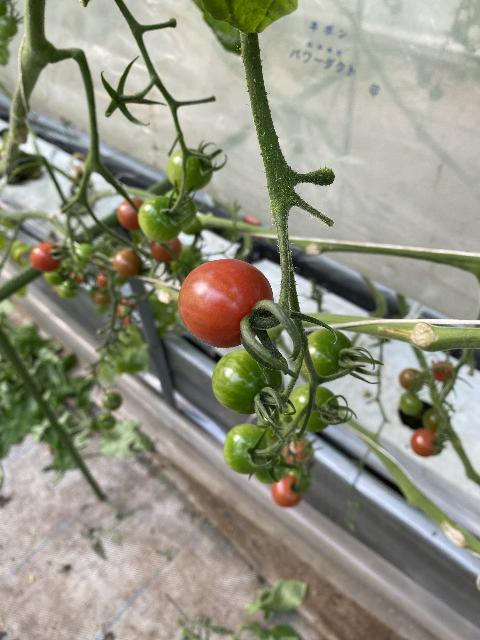l_fully_ripened: (178, 259, 273, 347), (272, 476, 301, 508), (31, 241, 61, 271)
l_green: (211, 349, 284, 415), (298, 328, 352, 379), (288, 384, 339, 432), (224, 423, 267, 475), (138, 196, 183, 242), (168, 148, 214, 191)
l_half_ripened: (113, 249, 142, 276)
